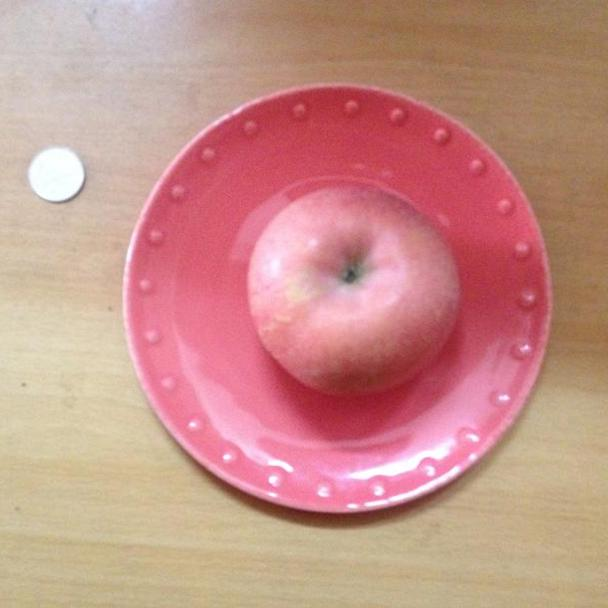apple: (243, 181, 473, 401)
